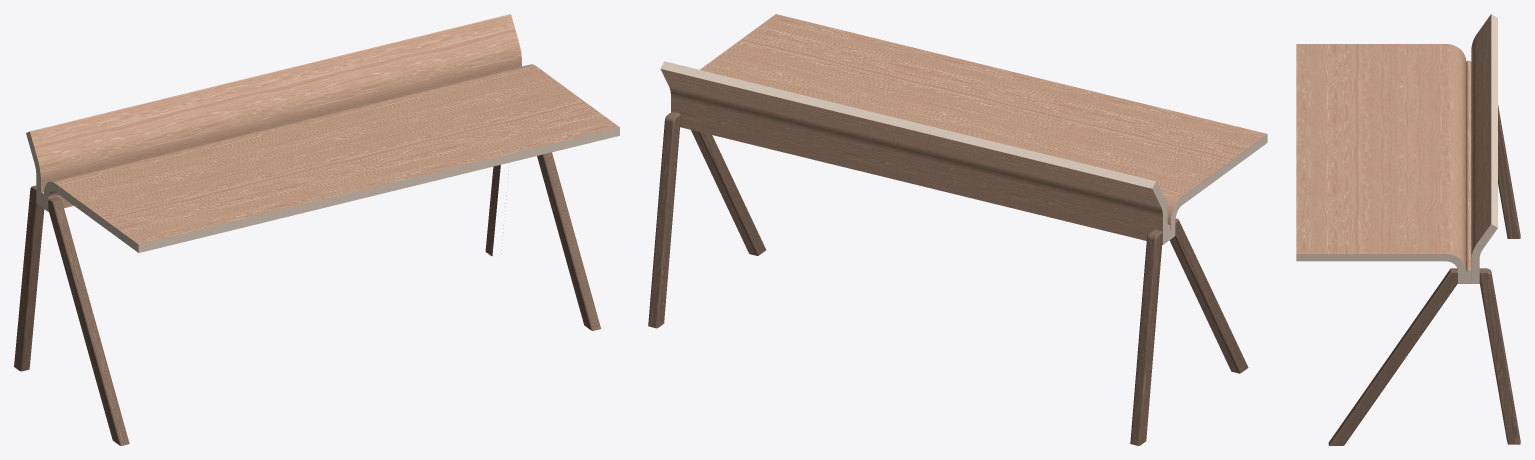
The model's file is cph190_desk.gltf.
3 views of the same model, side by side, from view 1: azimuth 30°, elevation 25°; view 2: azimuth 150°, elevation 25°; view 3: azimuth 270°, elevation 25° (orthographic). The views are drawn at different scales.
Parts seen in each view (by area): view 1: Mesh; view 2: Mesh; view 3: Mesh.
Part boxes in pixels (<box>): Mesh: <box>14,14,619,445</box>; Mesh: <box>648,14,1267,445</box>; Mesh: <box>1296,14,1520,445</box>.
Bounding box in the file's own units: 1.5 × 0.74 × 0.6777.
1 material, 1 textured.
